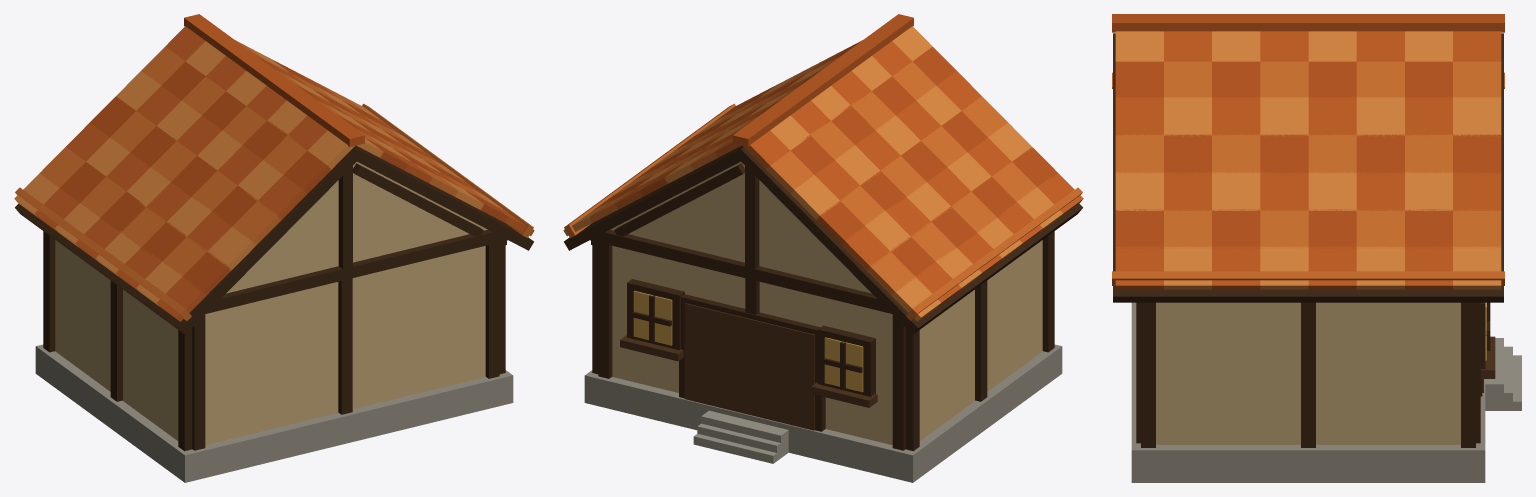
The model's file is barn.glb.
3 views of the same model, side by side, from view 1: azimuth 30°, elevation 25°; view 2: azimuth 150°, elevation 25°; view 3: azimuth 270°, elevation 25° (orthographic). The views are drawn at different scales.
Parts seen in each view (by area): view 1: barn; view 2: barn; view 3: barn.
Part boxes in pixels (left/top/right/bottom): barn: left=14, top=14, right=534, bottom=482; barn: left=563, top=14, right=1083, bottom=482; barn: left=1112, top=14, right=1521, bottom=482.
Size of the model in its own units: 9.25 by 7.7 by 7.74.
